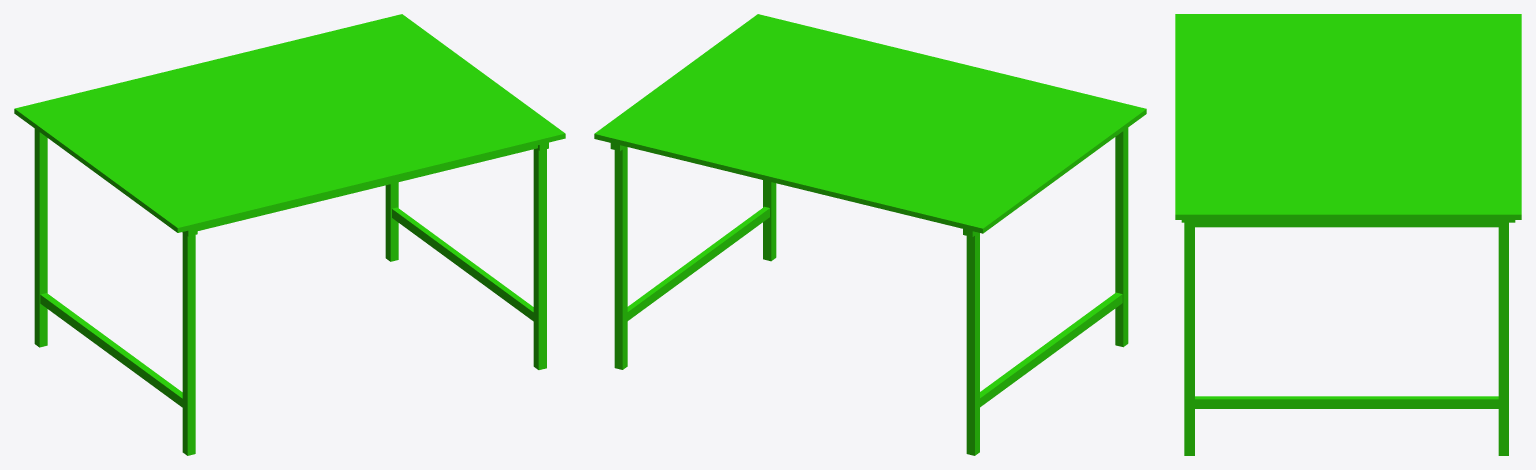
The model's file is Table_05_Lod0.fbx.
3 renders of one model, left to right at view 1: azimuth 30°, elevation 25°; view 2: azimuth 150°, elevation 25°; view 3: azimuth 270°, elevation 25°, orthographic. The views are drawn at different scales.
Visible parts, largest first — view 1: Table_05_Lod0; view 2: Table_05_Lod0; view 3: Table_05_Lod0.
Part boxes in pixels (box(x1,y1,x2,y2)): Table_05_Lod0: box(14, 14, 565, 455); Table_05_Lod0: box(594, 14, 1146, 455); Table_05_Lod0: box(1175, 14, 1521, 455).
Bounding box in the file's own units: 144 × 82.96 × 105.
